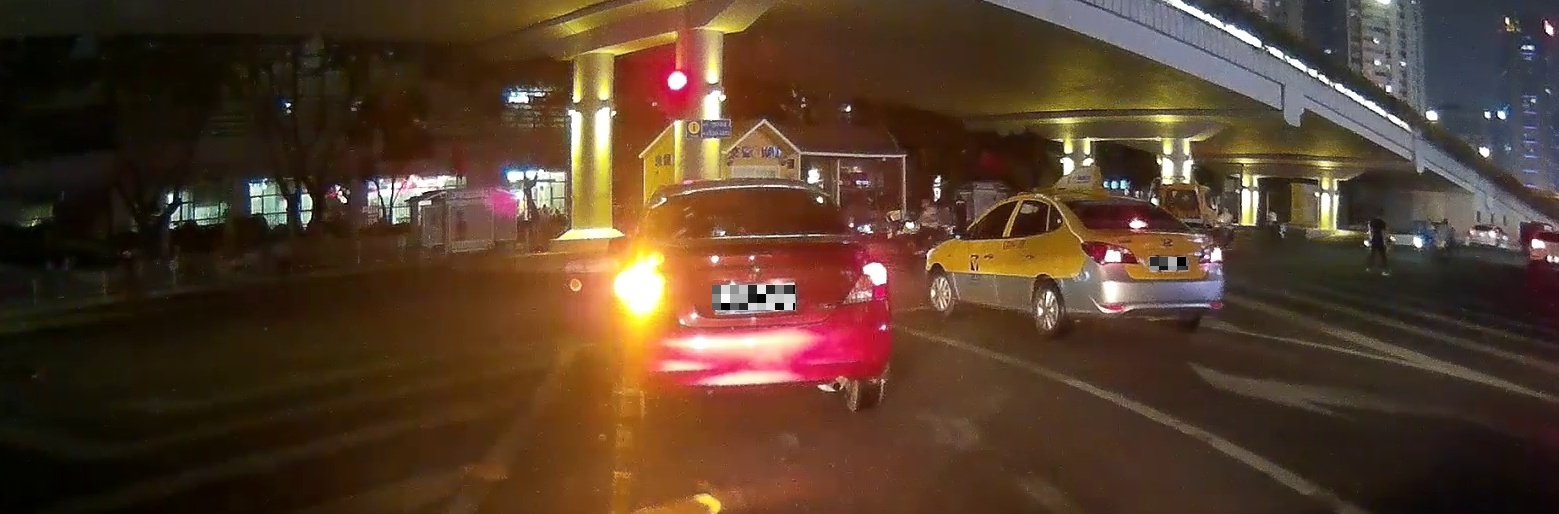L_light: (610, 261, 665, 317), (1080, 240, 1137, 265)
R_light: (841, 259, 889, 303), (1197, 241, 1224, 264)
T_light: (726, 191, 777, 199), (1128, 220, 1148, 229)
night-brake: (1054, 190, 1225, 337)
night-left: (608, 180, 895, 422)
plate_1: (712, 285, 795, 310)
plate_2: (1150, 257, 1188, 270)
